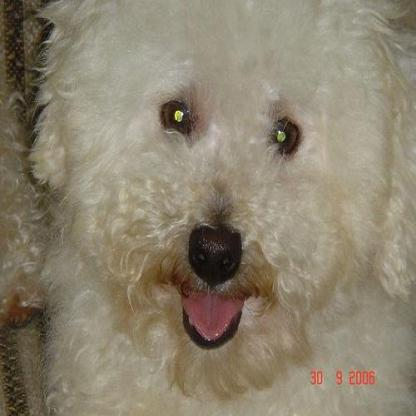toy_poodle: (0, 0, 414, 414)
